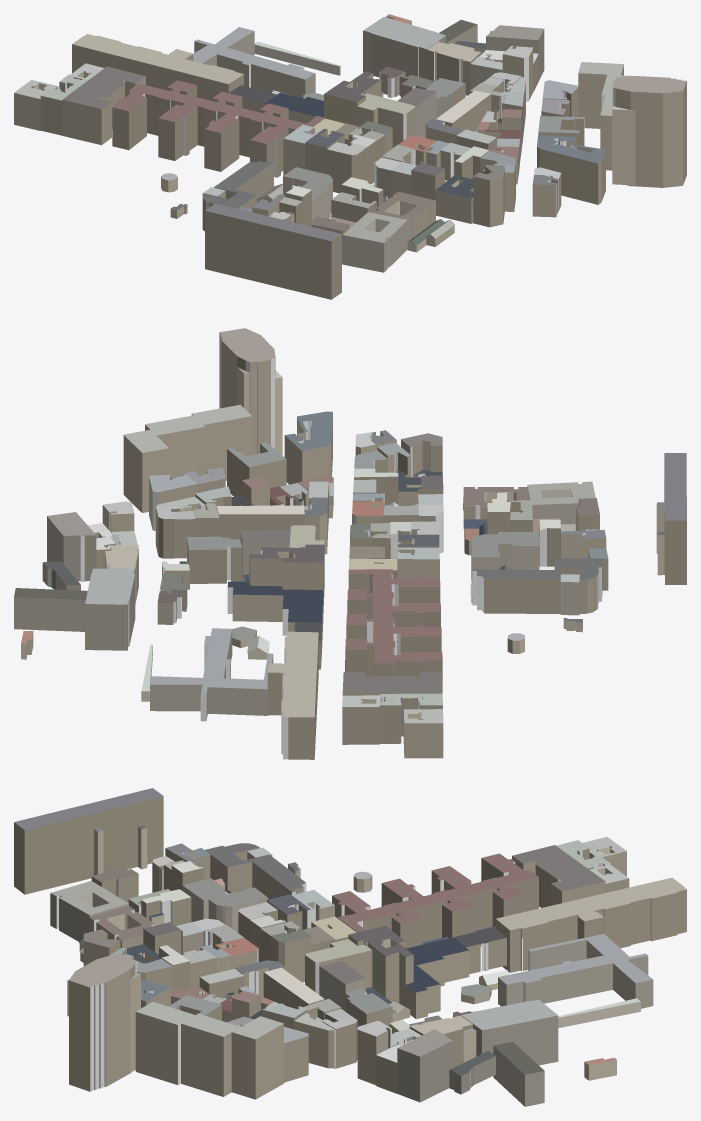
The picture shows the model from 3 angles, top to bottom: view 1: azimuth 30°, elevation 25°; view 2: azimuth 150°, elevation 25°; view 3: azimuth 270°, elevation 25°; orthographic projection. The views are drawn at different scales.
Parts seen in each view (by area): view 1: tuile; view 2: tuile; view 3: tuile.
Boxes of the visible parts, bbox=[...] form: tuile: bbox=[14, 14, 686, 299]; tuile: bbox=[14, 328, 686, 759]; tuile: bbox=[14, 788, 686, 1106].
Bounding box in the file's own units: 281 × 65.88 × 320.
